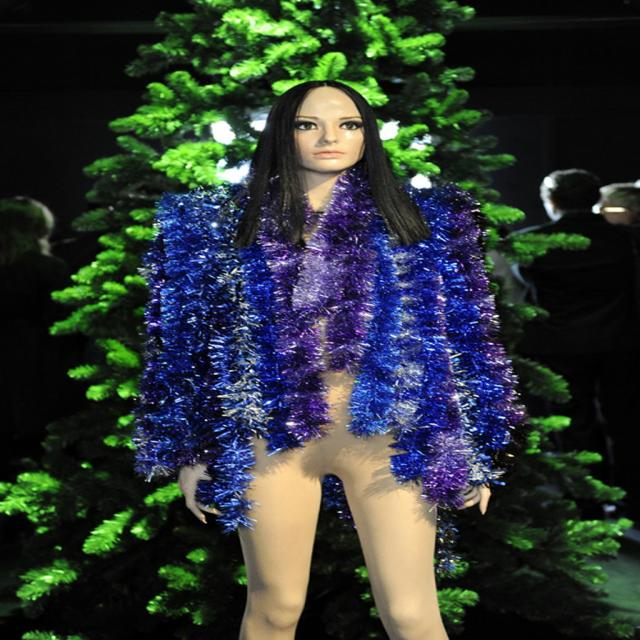nomask: (291, 85, 364, 173)
